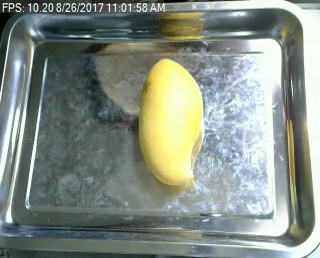Mango: (140, 57, 207, 184)
